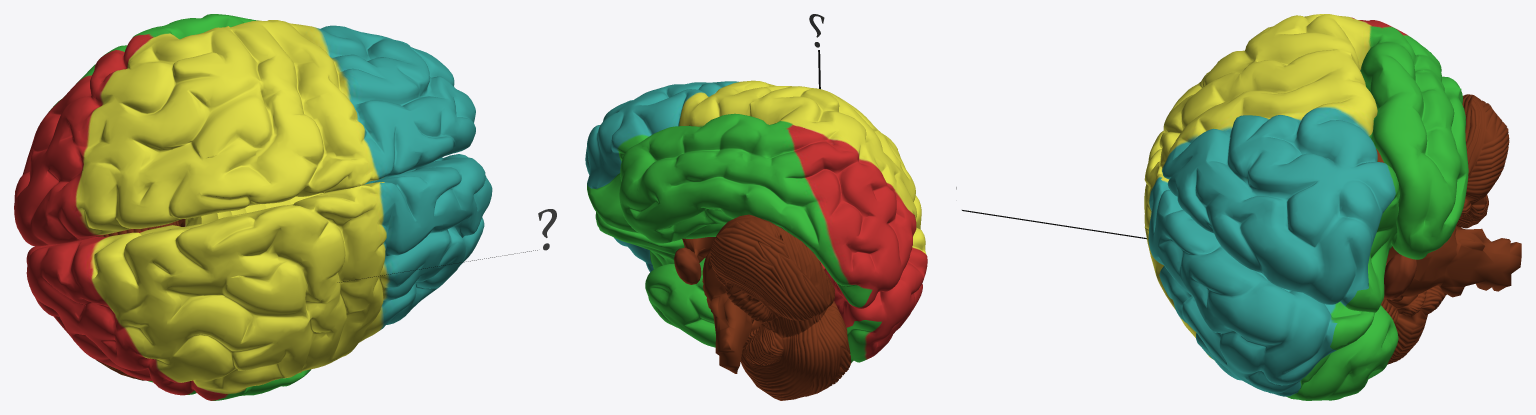
3 views of the same model, side by side, from view 1: azimuth 30°, elevation 25°; view 2: azimuth 150°, elevation 25°; view 3: azimuth 270°, elevation 25° (orthographic). The views are drawn at different scales.
Visible parts, largest first — view 1: Brain_Part_04, Brain_Part_06; view 2: Brain_Part_04, Brain_Part_02, Brain_Part_06, Brain_Part_05, Brain_Part_01; view 3: Brain_Part_04, Brain_Part_06, Brain_Part_02, Brain_Part_05, Brain_Part_01.
Part boxes in pixels (box(x1,y1,x2,y2)): Brain_Part_04: box(14, 14, 475, 246); Brain_Part_06: box(26, 154, 492, 400); Brain_Part_04: box(585, 80, 916, 308); Brain_Part_02: box(710, 214, 851, 400); Brain_Part_06: box(595, 195, 927, 363); Brain_Part_05: box(682, 237, 754, 373); Brain_Part_01: box(674, 247, 701, 284); Brain_Part_04: box(1159, 14, 1468, 312); Brain_Part_06: box(1144, 130, 1398, 400); Brain_Part_02: box(1381, 94, 1509, 364); Brain_Part_05: box(1376, 148, 1521, 302); Brain_Part_01: box(1384, 253, 1416, 299).
Size of the model in its own units: 0.1623 by 0.1331 by 0.1969.
3 materials, 1 textured.
